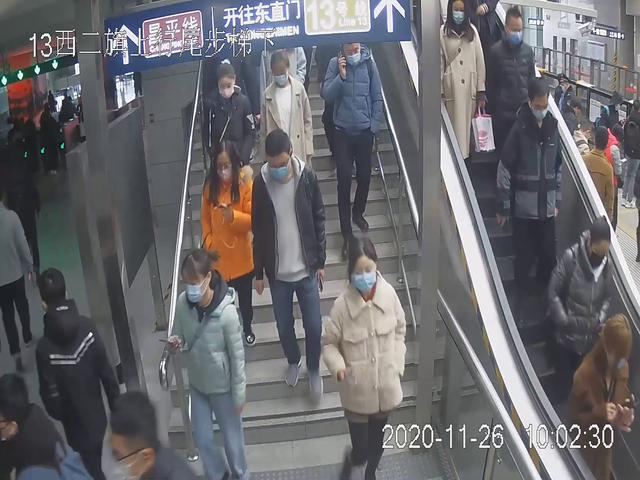person: (320, 238, 408, 480), (250, 129, 327, 402), (166, 250, 253, 480), (30, 264, 122, 480), (495, 74, 564, 345), (543, 215, 613, 424), (558, 312, 639, 480), (320, 36, 386, 239), (196, 140, 258, 352), (433, 1, 493, 210), (481, 4, 538, 209), (255, 49, 320, 217), (201, 53, 253, 228)
